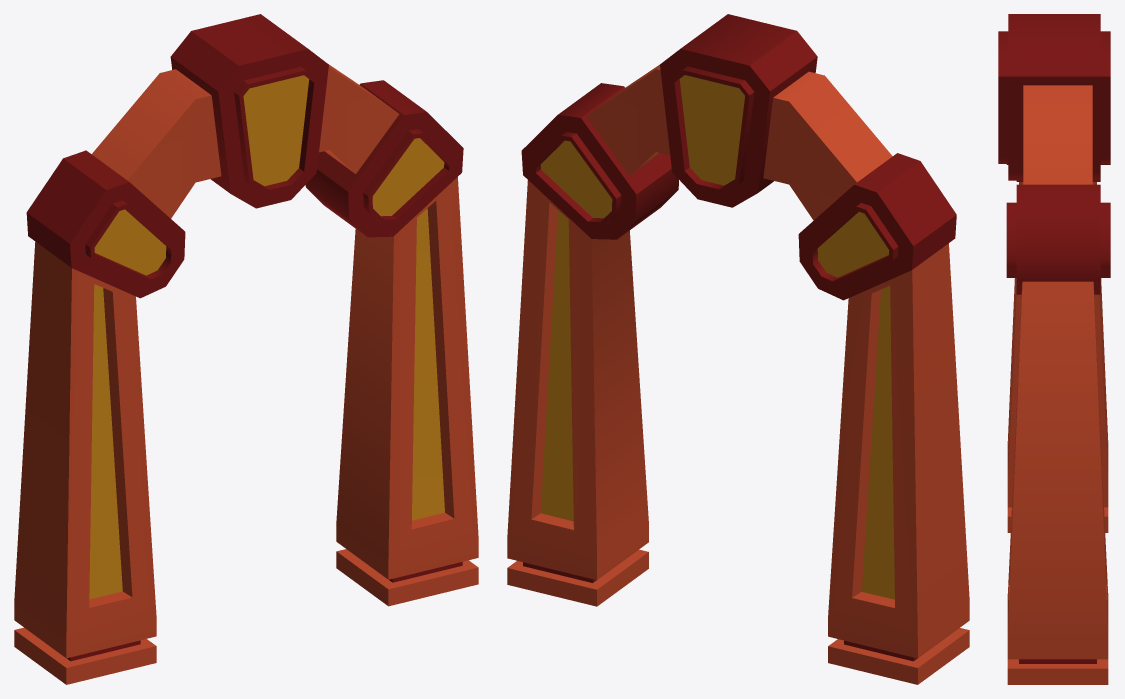
File: Door-2.FBX
3 views of the same model, side by side, from view 1: azimuth 30°, elevation 25°; view 2: azimuth 150°, elevation 25°; view 3: azimuth 270°, elevation 25° (orthographic). The views are drawn at different scales.
Visible parts, largest first — view 1: TallDoor; view 2: TallDoor; view 3: TallDoor.
Part boxes in pixels (x1=…): TallDoor: x1=14, y1=14, x2=478, y2=684; TallDoor: x1=507, y1=14, x2=969, y2=684; TallDoor: x1=998, y1=14, x2=1110, y2=684.
Size of the model in its own units: 102 by 137 by 24.88.
